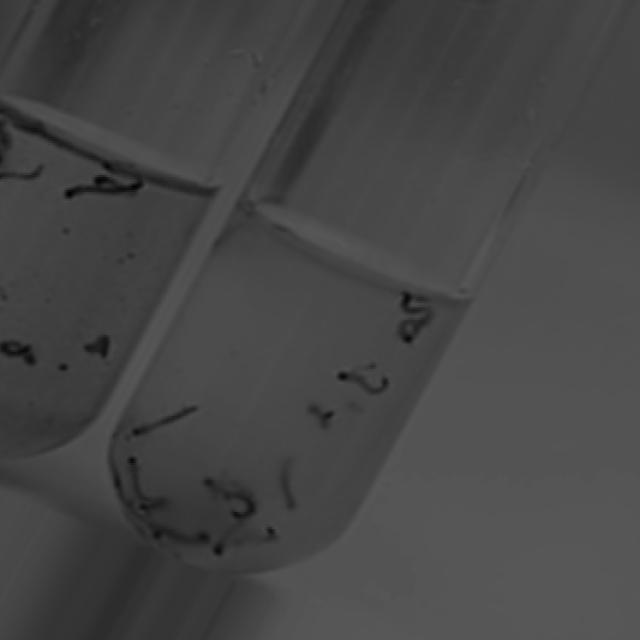larvas: (204, 473, 256, 515), (136, 402, 199, 435), (64, 180, 148, 202), (342, 367, 388, 394), (154, 525, 205, 548), (401, 286, 432, 322), (215, 517, 240, 556), (129, 454, 148, 504), (0, 164, 44, 185), (139, 489, 172, 517), (0, 332, 28, 362), (248, 525, 279, 547), (88, 336, 110, 363), (284, 461, 296, 509), (399, 325, 423, 346), (308, 404, 332, 418), (94, 174, 116, 185)
